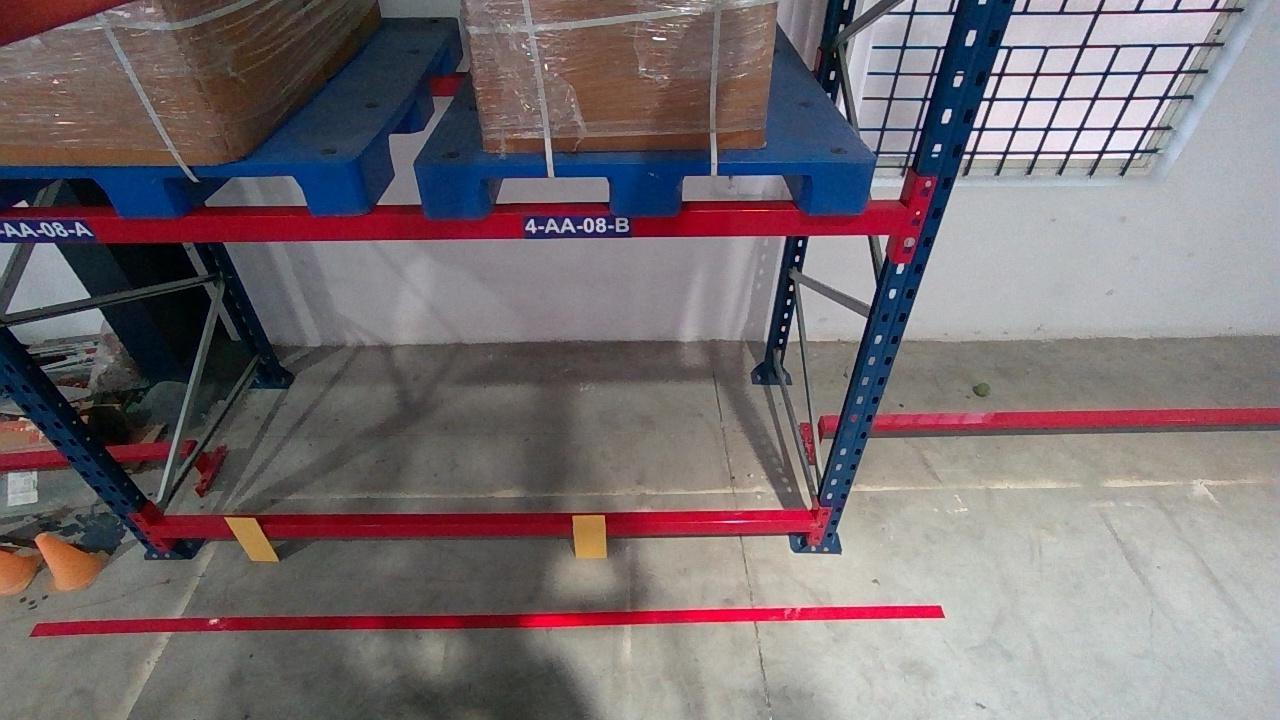h_rack: (3, 206, 909, 240), (149, 518, 812, 538)
orange_strip: (221, 516, 279, 560), (571, 515, 607, 557)
red_line: (27, 606, 943, 633)
small_pallet: (414, 160, 875, 212), (1, 162, 363, 215)
